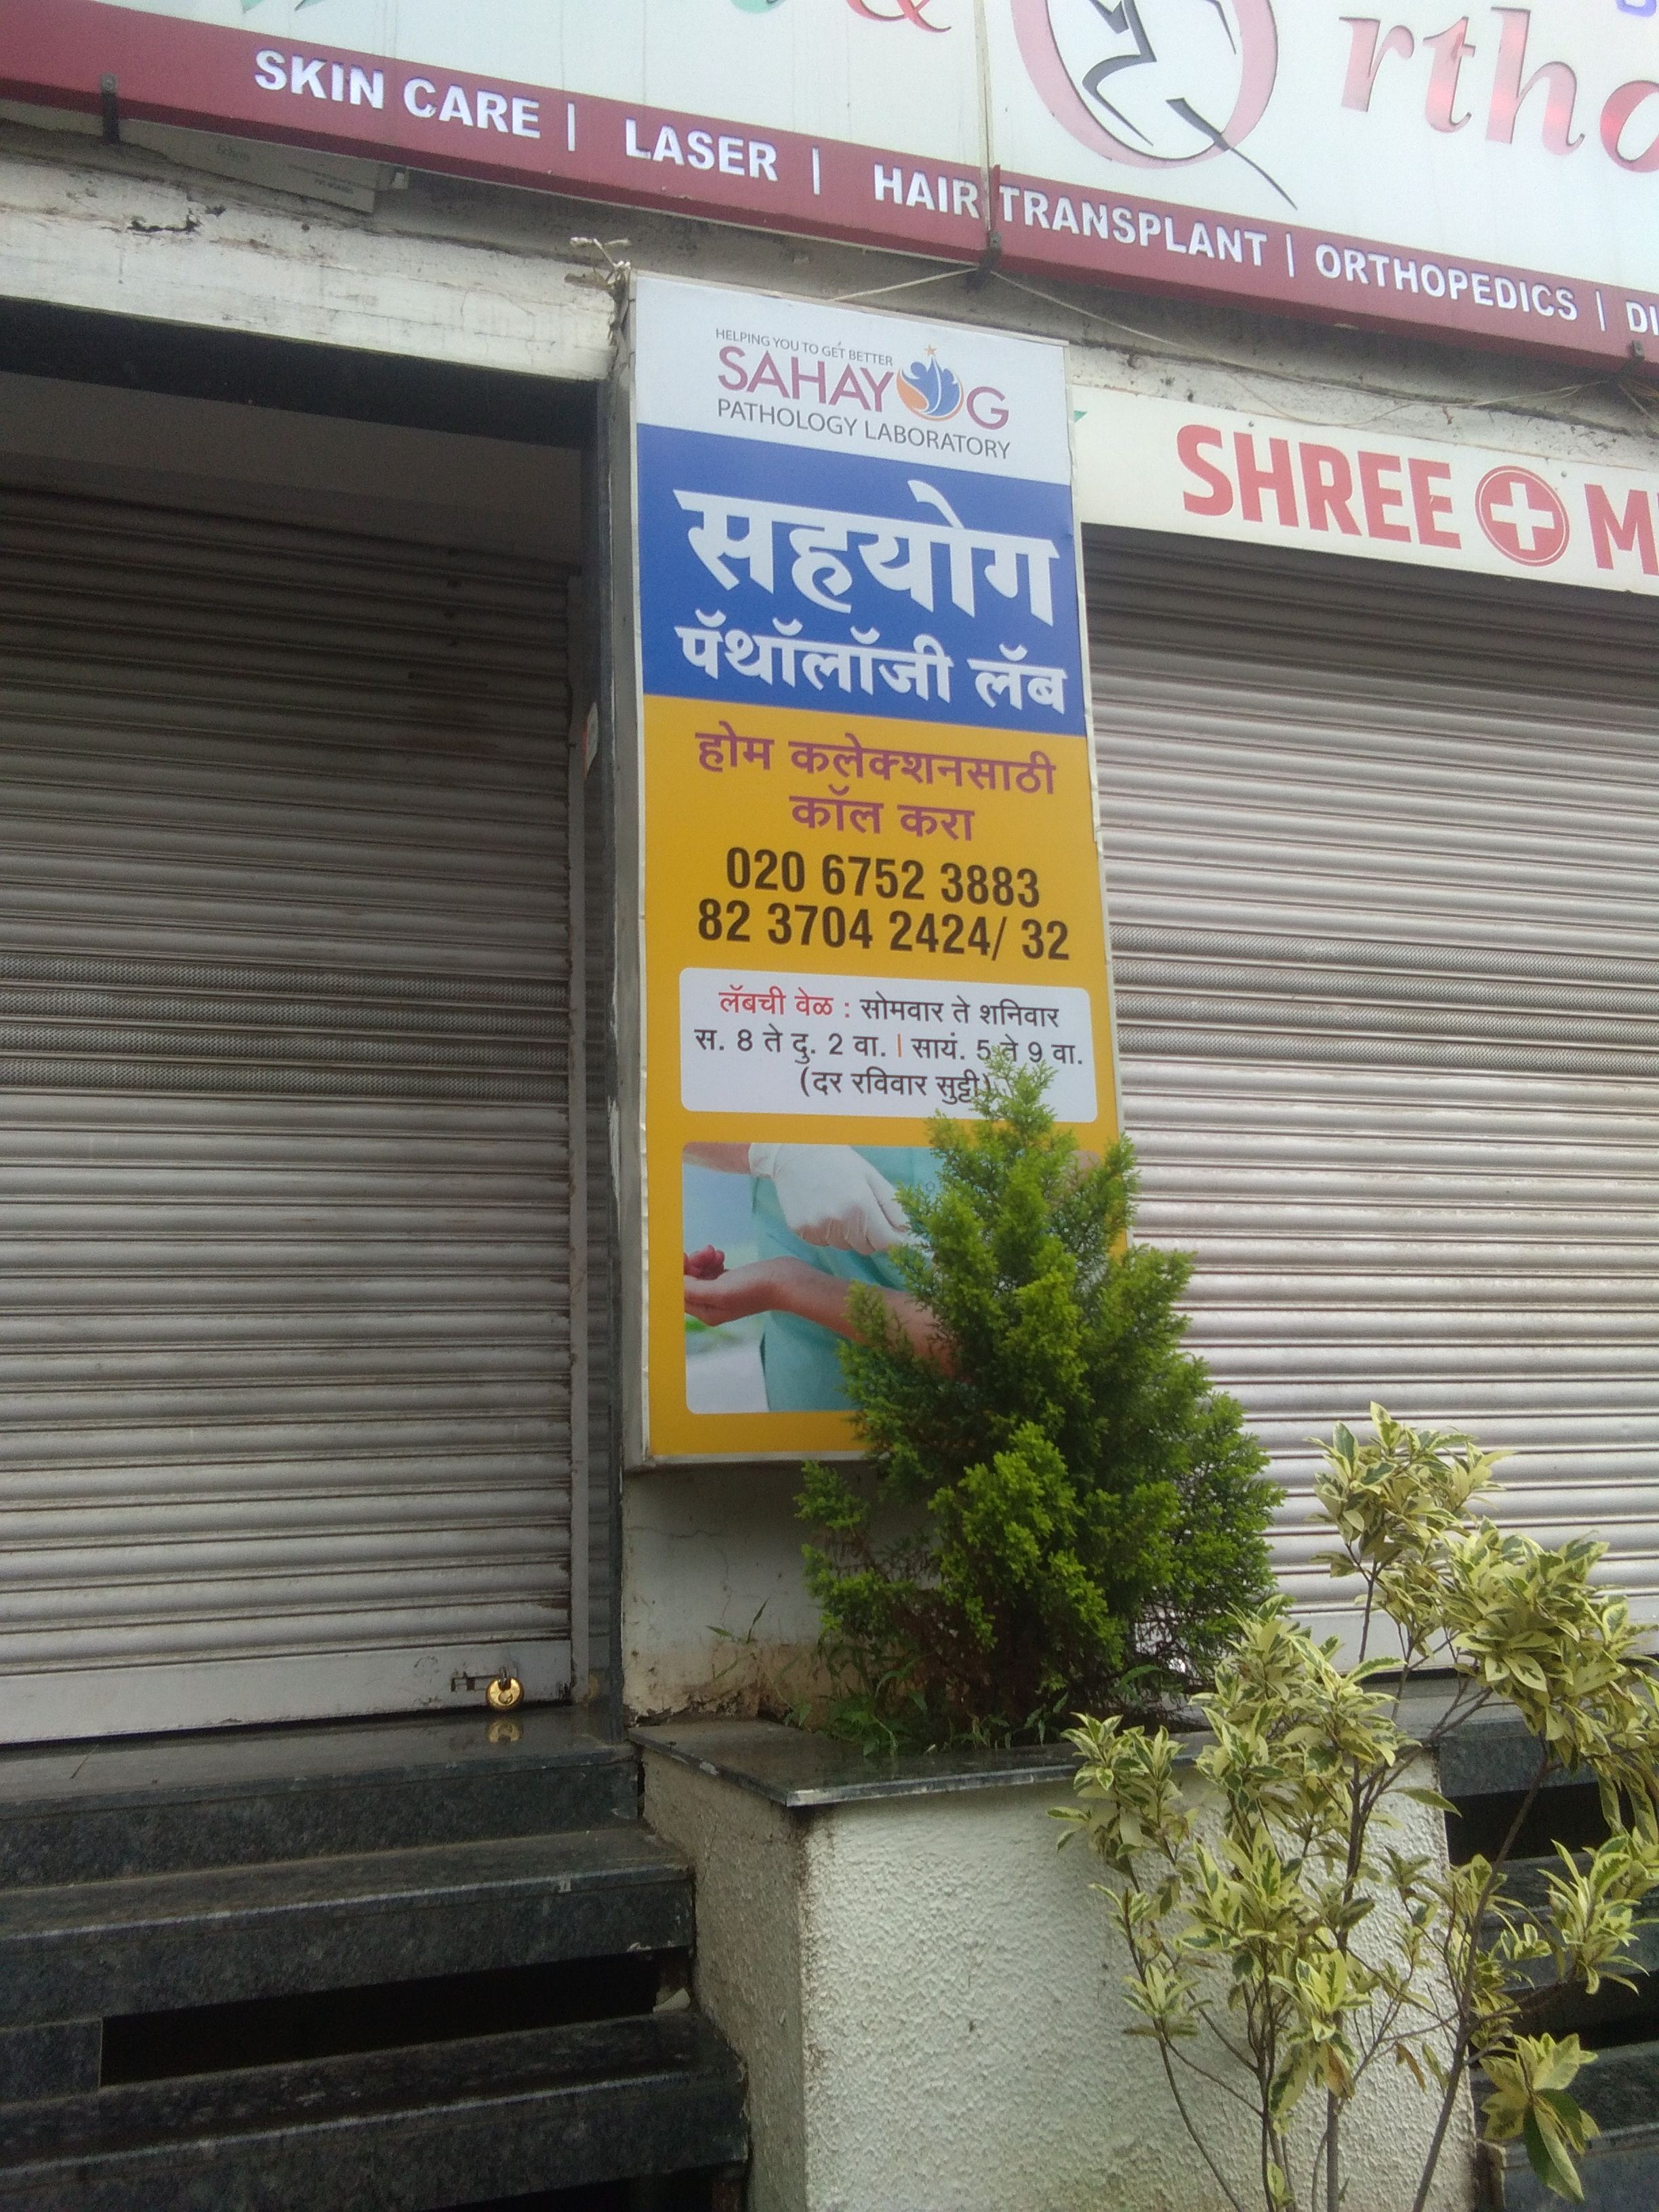text: (629, 270, 1152, 1437), (214, 3, 1659, 352), (1131, 392, 1649, 608)
